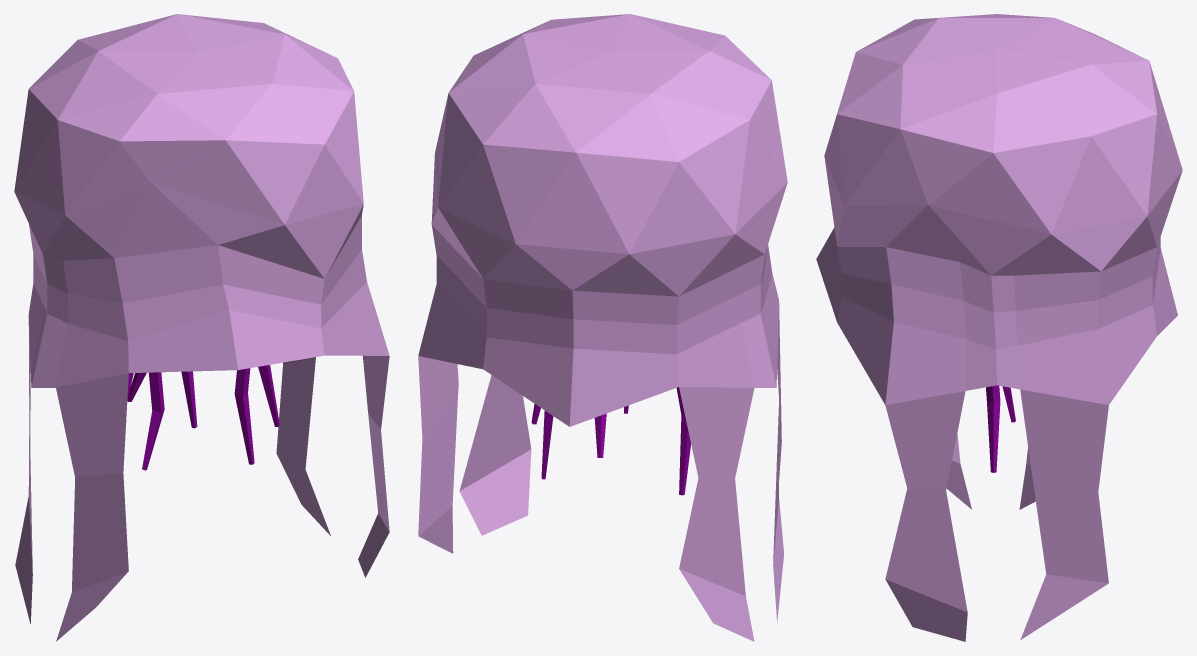
Rendered from agua viva.fbx.
3 renders of one model, left to right at view 1: azimuth 30°, elevation 25°; view 2: azimuth 150°, elevation 25°; view 3: azimuth 270°, elevation 25°, orthographic.
Parts seen in each view (by area): view 1: Icosphere.004; view 2: Icosphere.004; view 3: Icosphere.004.
Part boxes in pixels (x1=…): Icosphere.004: x1=14, y1=14, x2=389, y2=641; Icosphere.004: x1=418, y1=14, x2=787, y2=641; Icosphere.004: x1=816, y1=14, x2=1182, y2=641.
Bounding box in the file's own units: 57.42 × 89.69 × 55.59.
